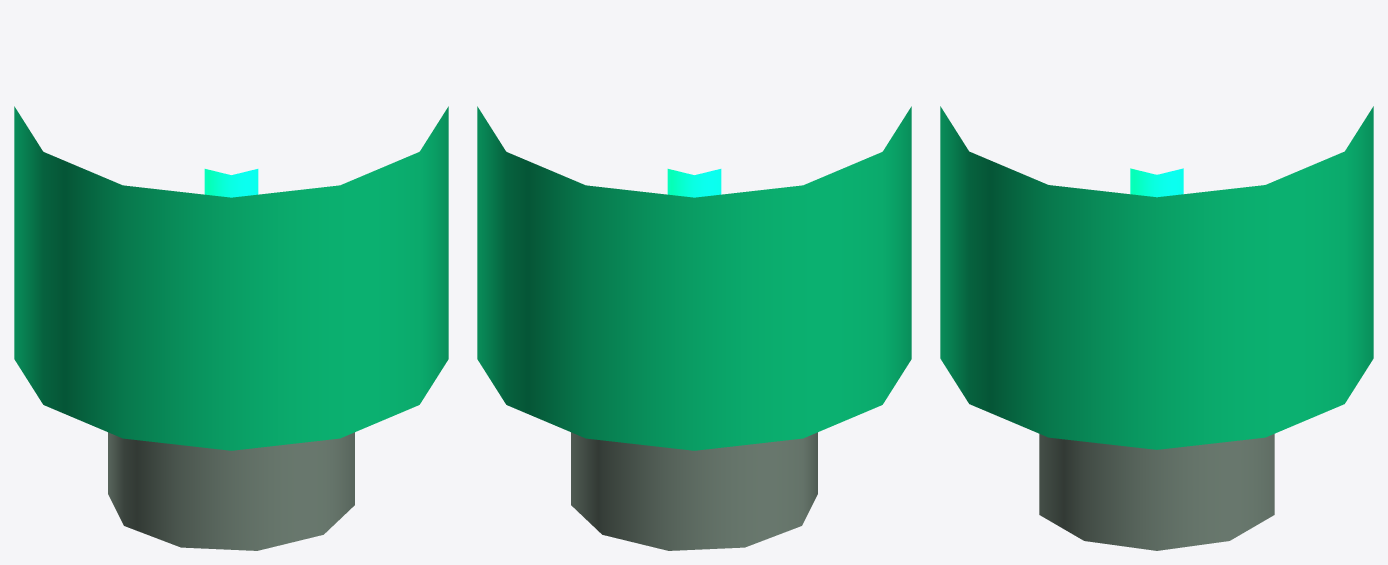
Rendered from bombillas_filamento.glb.
3 views of the same model, side by side, from view 1: azimuth 30°, elevation 25°; view 2: azimuth 150°, elevation 25°; view 3: azimuth 270°, elevation 25° (orthographic).
Visible parts, largest first — view 1: Accent, Base, Glow; view 2: Accent, Base, Glow; view 3: Accent, Base, Glow.
Boxes of the visible parts, x1,y1,x2,y2 form: Accent: (14,106,448,450); Base: (108,432,354,550); Glow: (204,169,258,197); Accent: (477,106,911,450); Base: (571,432,817,550); Glow: (667,169,721,197); Accent: (940,106,1373,449); Base: (1039,434,1274,550); Glow: (1130,168,1183,197).
Size of the model in its own units: 0.28 by 0.28 by 0.28.
